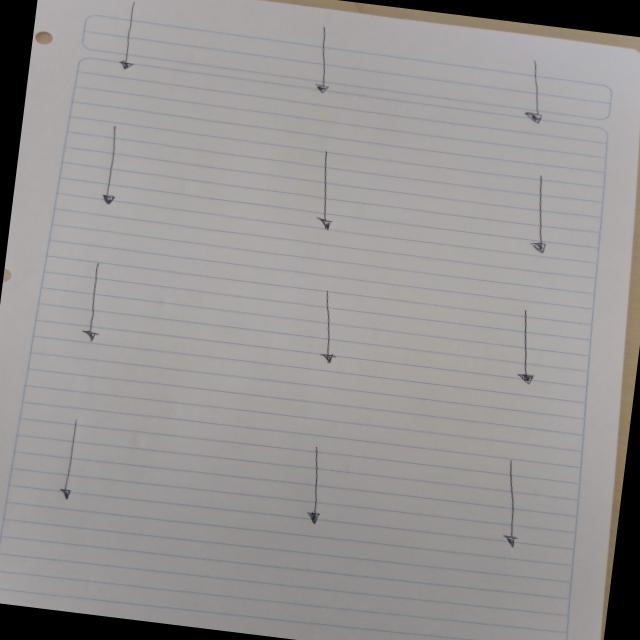arrow_line_down: (46, 412, 96, 510), (302, 291, 360, 373), (490, 462, 541, 554), (102, 0, 157, 76), (292, 441, 337, 532), (70, 257, 116, 346), (506, 304, 550, 390), (520, 171, 562, 256), (308, 150, 349, 237), (87, 119, 127, 208), (304, 24, 346, 100), (516, 58, 557, 130)
